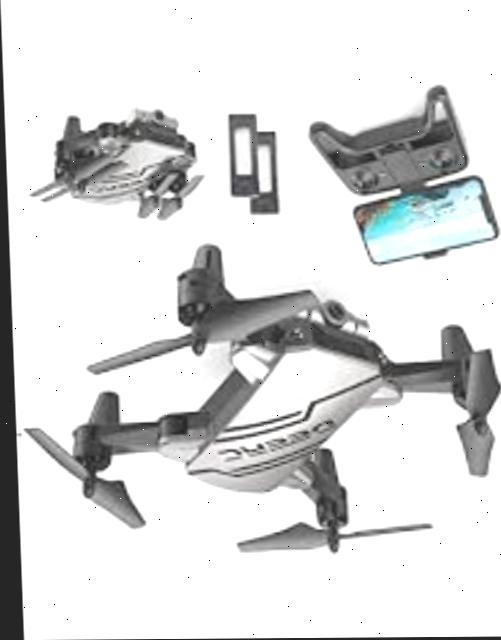drone: (7, 240, 501, 569)
